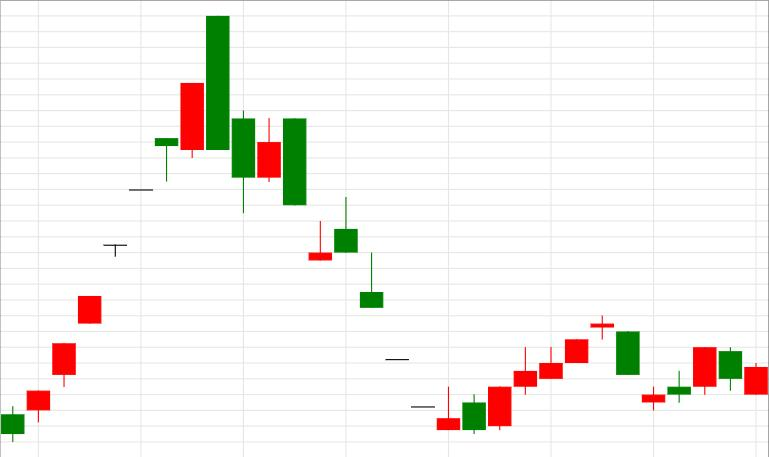evening_star_fall: (489, 316, 639, 431)
